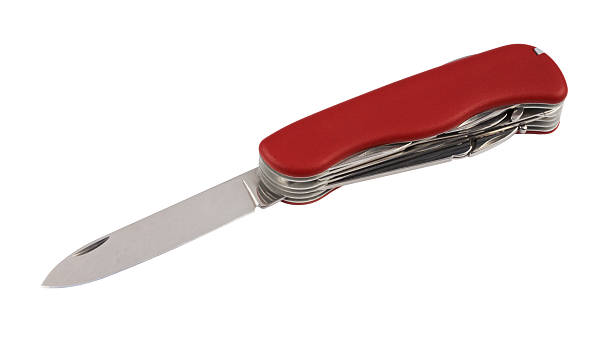knife: (36, 160, 293, 289)
